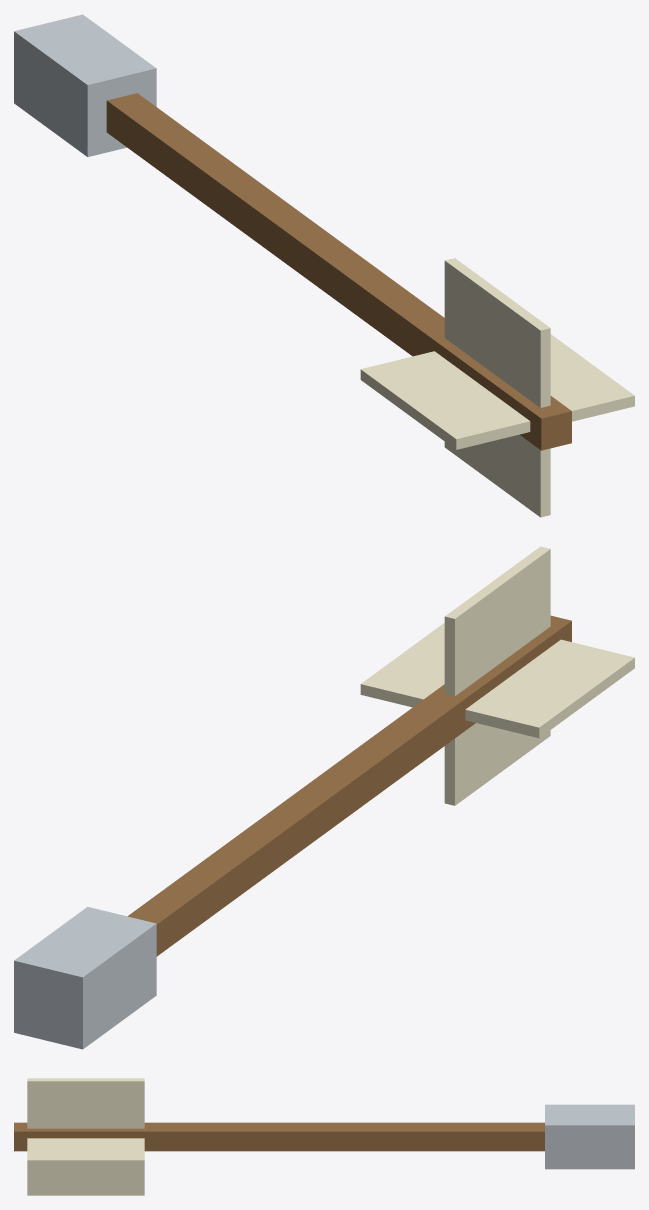
The model's file is arrow.glb.
3 views of the same model, one above another, from view 1: azimuth 30°, elevation 25°; view 2: azimuth 150°, elevation 25°; view 3: azimuth 270°, elevation 25° (orthographic). The views are drawn at different scales.
Parts seen in each view (by area): view 1: Shaft, FeatherY, Tip, FeatherX; view 2: Shaft, Tip, FeatherY, FeatherX; view 3: Shaft, FeatherY, Tip, FeatherX.
Part boxes in pixels (box(x1,y1,x2,y2)): Shaft: box(106, 93, 571, 450); FeatherY: box(444, 258, 550, 517); Tip: box(14, 14, 156, 156); FeatherX: box(360, 334, 634, 449); Shaft: box(127, 615, 571, 956); Tip: box(14, 907, 156, 1049); FeatherY: box(444, 546, 550, 805); FeatherX: box(360, 623, 634, 738); Shaft: box(14, 1122, 544, 1151); FeatherY: box(27, 1078, 144, 1195); Tip: box(545, 1104, 634, 1169); FeatherX: box(27, 1138, 144, 1166).
Size of the model in its own units: 0.14 by 0.14 by 0.69.
